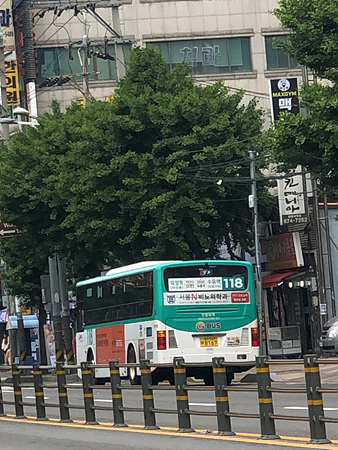bnum: (221, 277, 244, 289)
